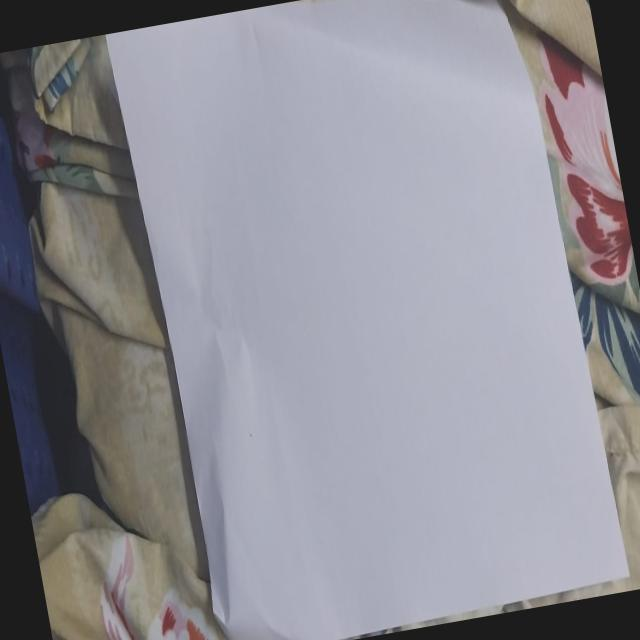Paper - Recyclable: (101, 0, 633, 640)
